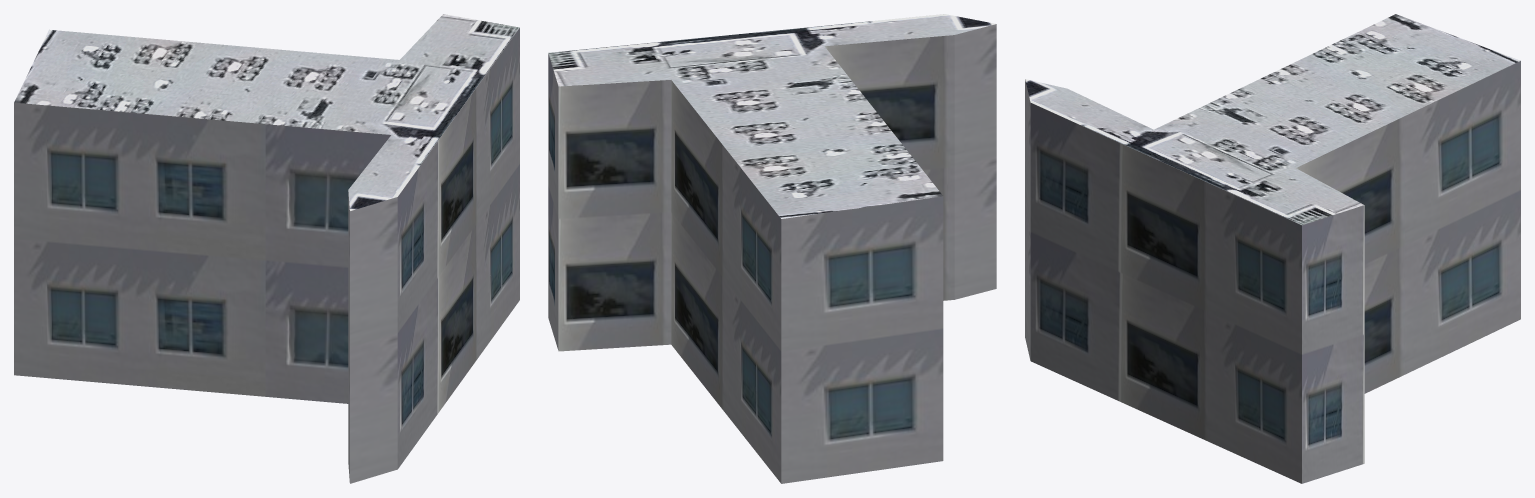
Rendered from ResTex__2777.fbx.
The picture shows the model from 3 angles, left to right: view 1: azimuth 30°, elevation 25°; view 2: azimuth 150°, elevation 25°; view 3: azimuth 270°, elevation 25°; orthographic projection. The views are drawn at different scales.
Visible parts, largest first — view 1: CityEngineMaterial_10_m, CityEngineMaterial_8_m; view 2: CityEngineMaterial_10_m, CityEngineMaterial_8_m; view 3: CityEngineMaterial_10_m, CityEngineMaterial_8_m.
Boxes of the visible parts, bbox=[...] form: CityEngineMaterial_10_m: bbox=[14, 28, 519, 483]; CityEngineMaterial_8_m: bbox=[14, 14, 519, 210]; CityEngineMaterial_10_m: bbox=[548, 24, 996, 483]; CityEngineMaterial_8_m: bbox=[548, 14, 995, 218]; CityEngineMaterial_10_m: bbox=[1025, 61, 1520, 483]; CityEngineMaterial_8_m: bbox=[1025, 14, 1520, 224].
Bounding box in the file's own units: 10.51 × 6 × 10.42.
2 materials, 2 textured.
